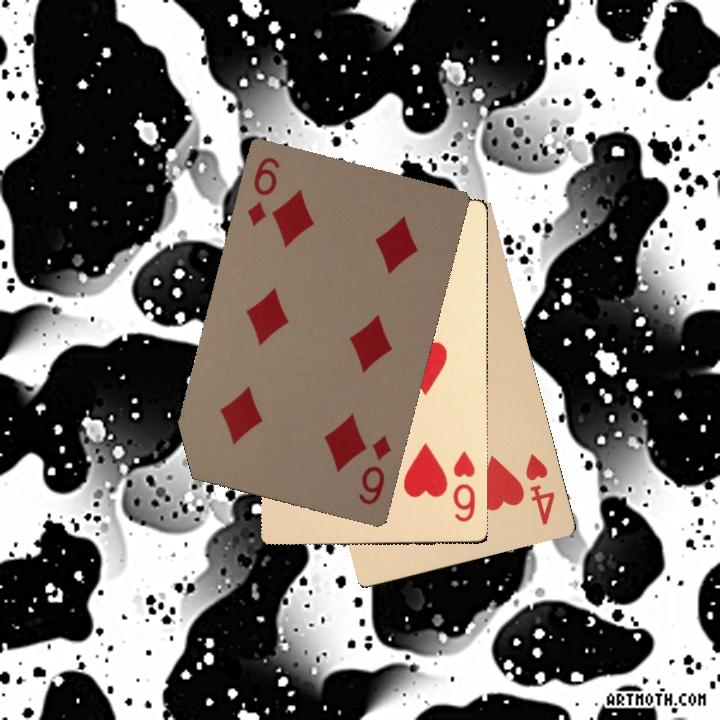4h: (521, 450, 557, 528)
6d: (354, 431, 394, 508), (243, 153, 282, 229)
6h: (449, 450, 478, 524)
